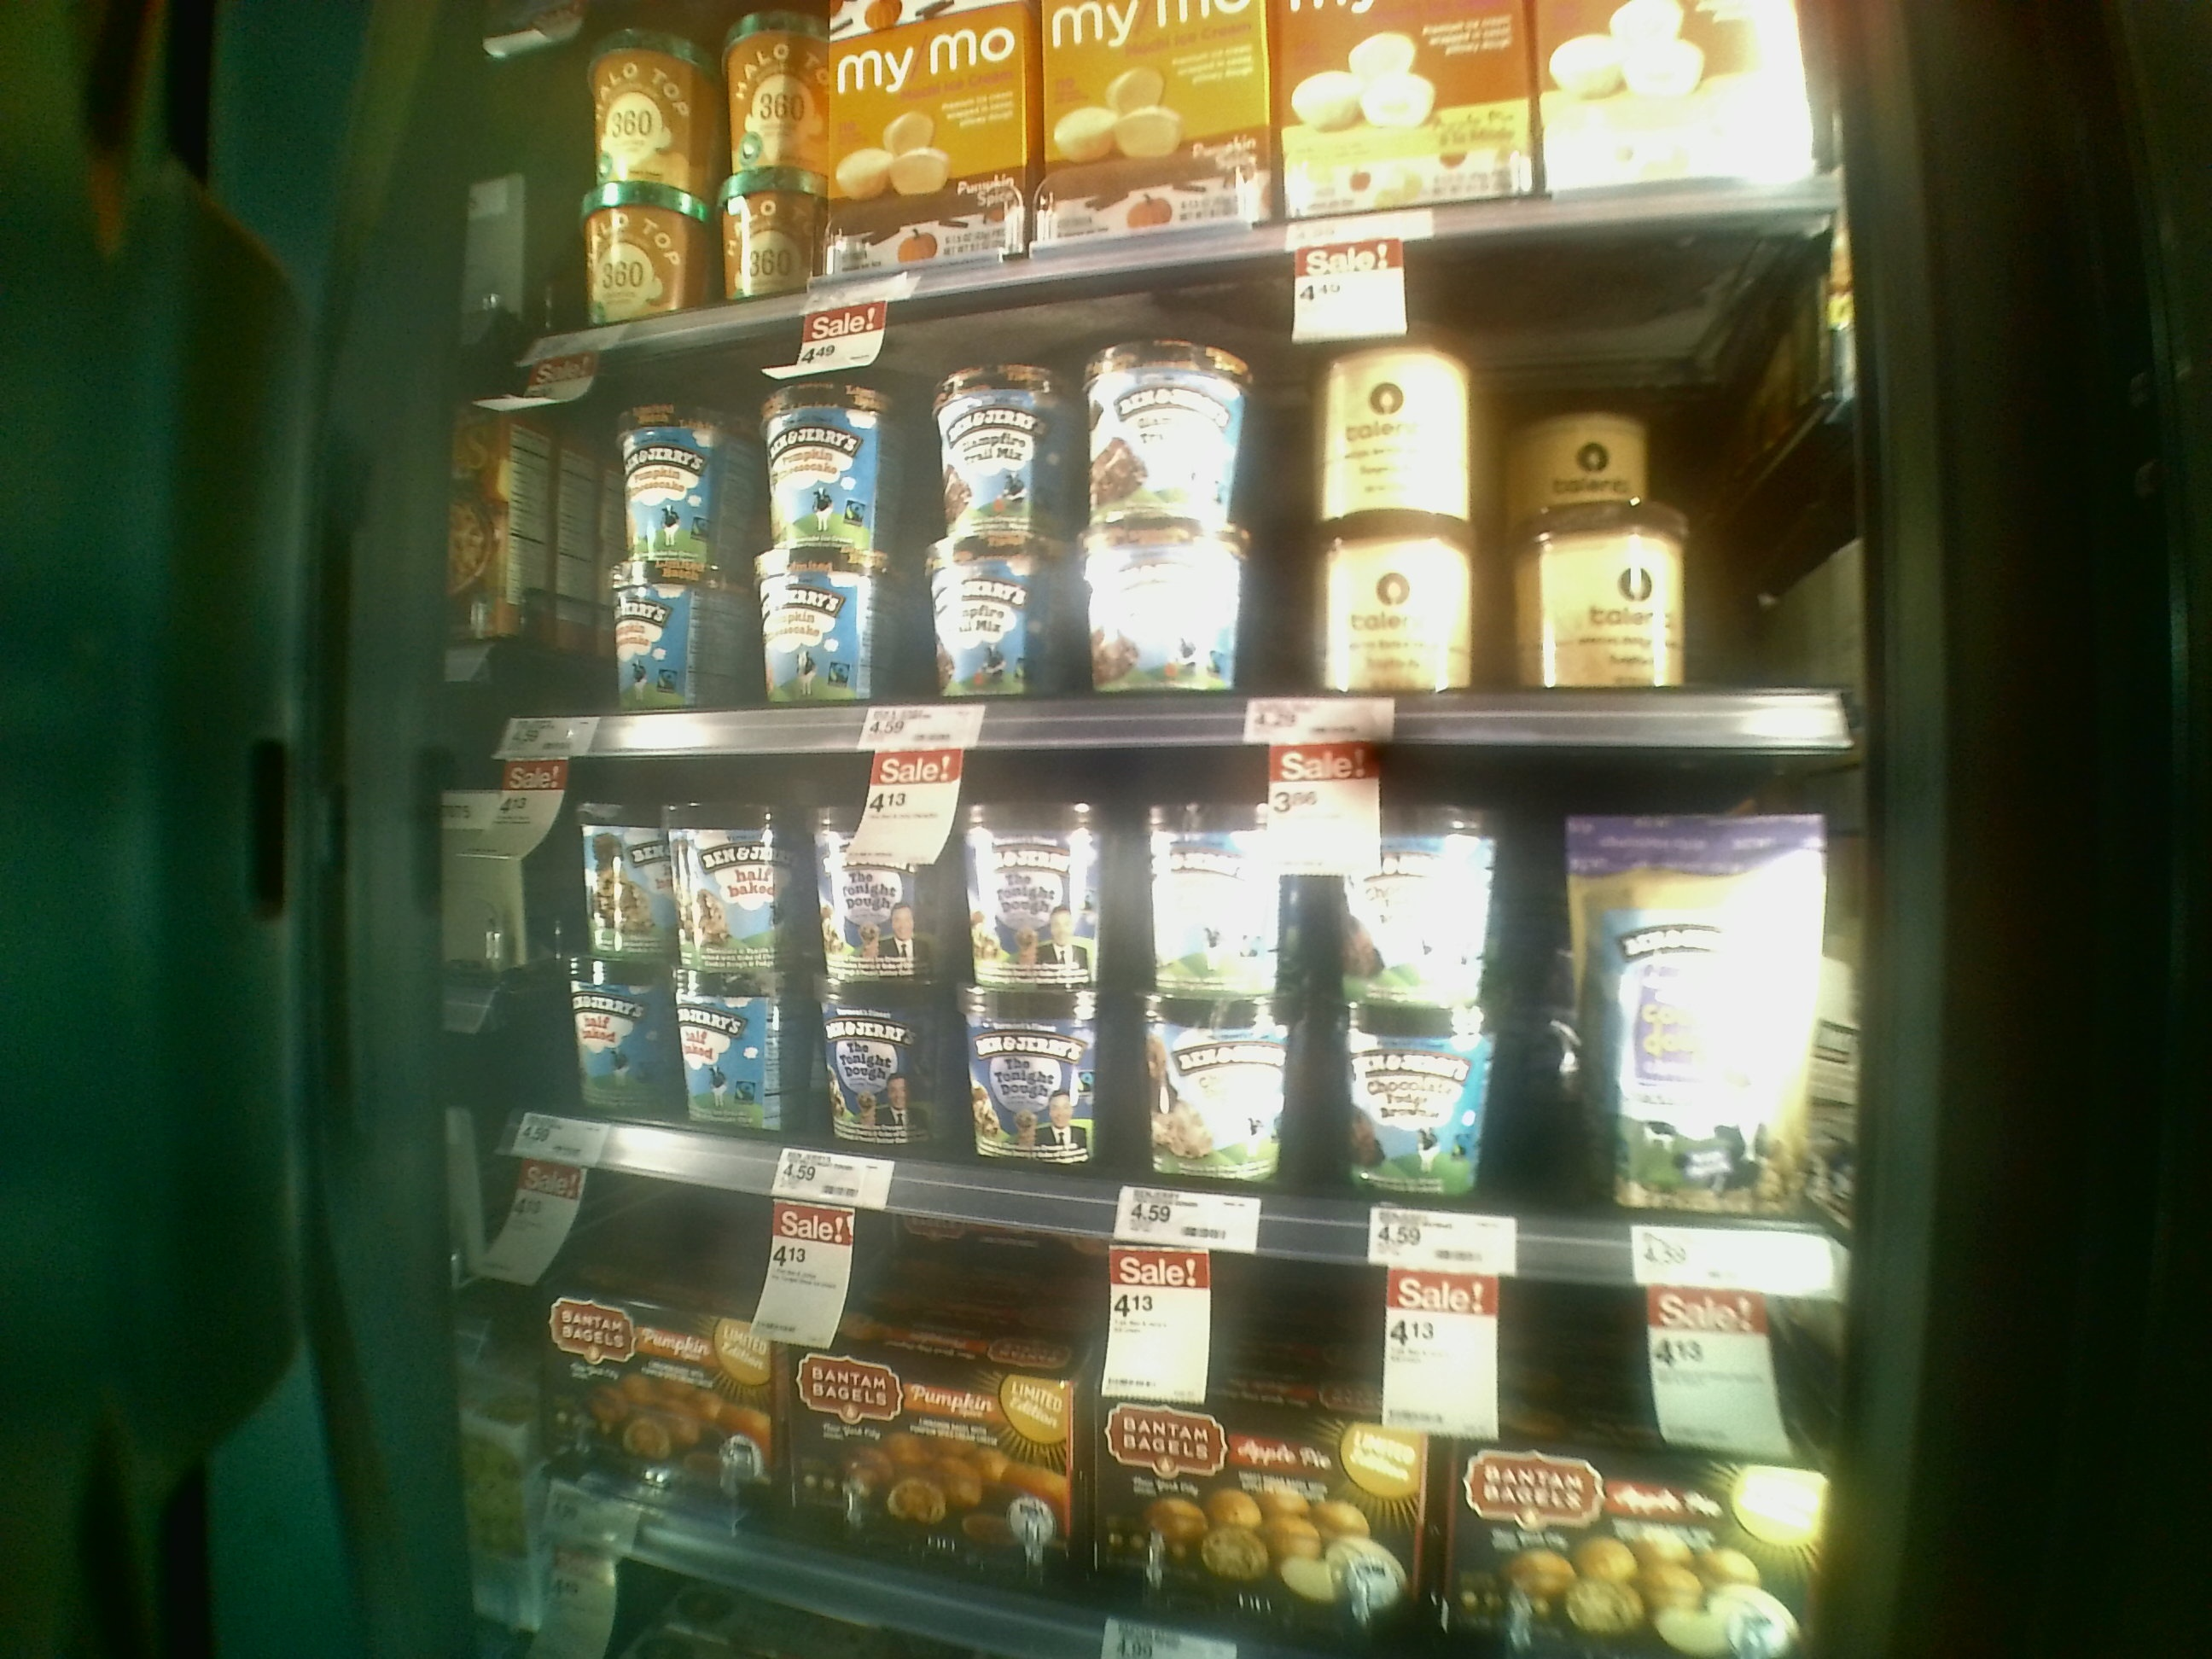shelf: (418, 716, 1864, 1305), (435, 343, 1890, 760)
